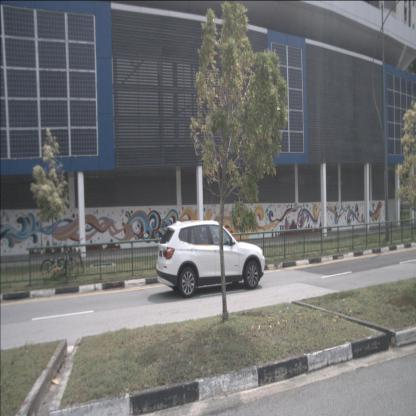vehicle-bicycle: (41, 238, 79, 283), (54, 237, 86, 278), (60, 238, 72, 284)
vehicle-car: (156, 220, 265, 298)
